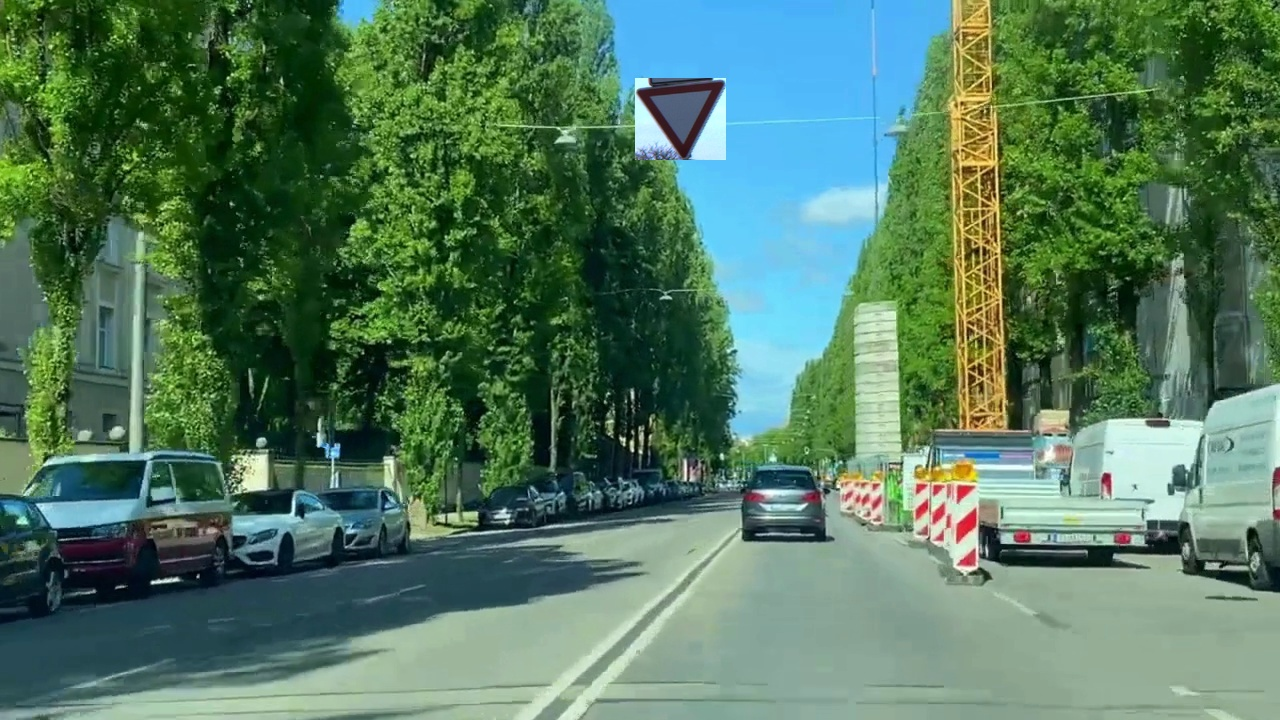Yield: (635, 78, 726, 160)
